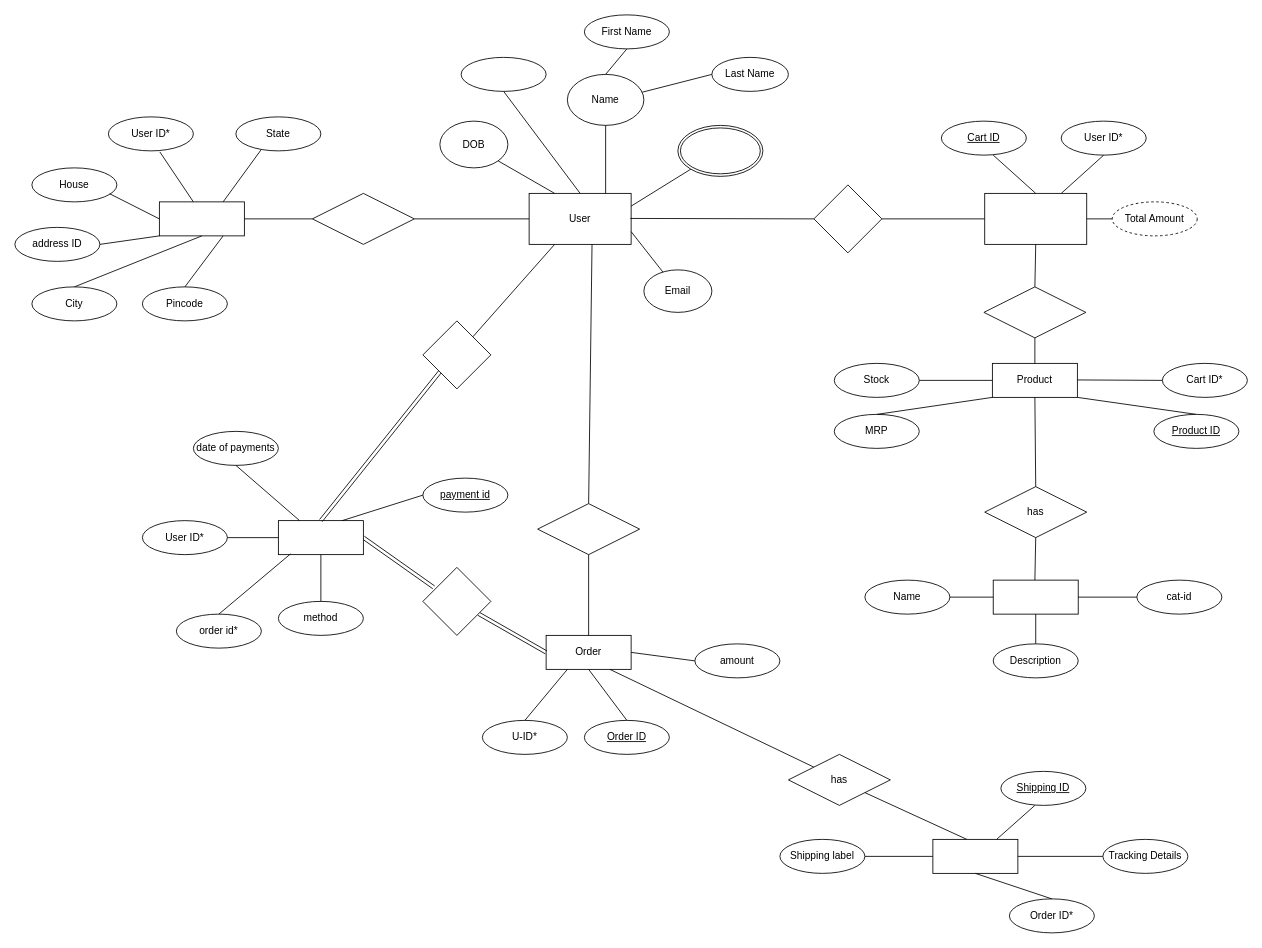
This 1262x948 diagram has some shape labels left out. Each missing label, with the centre of its shape:
"Address" belongs at [201,218].
"Cart" belongs at [1035,218].
"Contains" belongs at [1034,312].
"For" belongs at [456,601].
"Makes" belongs at [456,354].
"payments" belongs at [320,537].
"Phone No." belongs at [720,150].
"Places" belongs at [588,529].
"Product Category" belongs at [1035,596].
"shipping" belongs at [975,856].
"Shop" belongs at [847,218].
"Stays" belongs at [363,218].
"User ID" belongs at [503,74].
